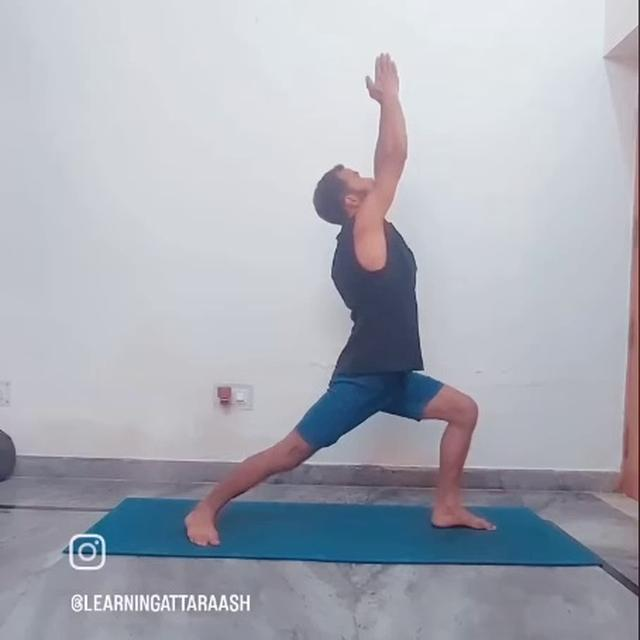Warrior_I: (165, 36, 512, 554)
